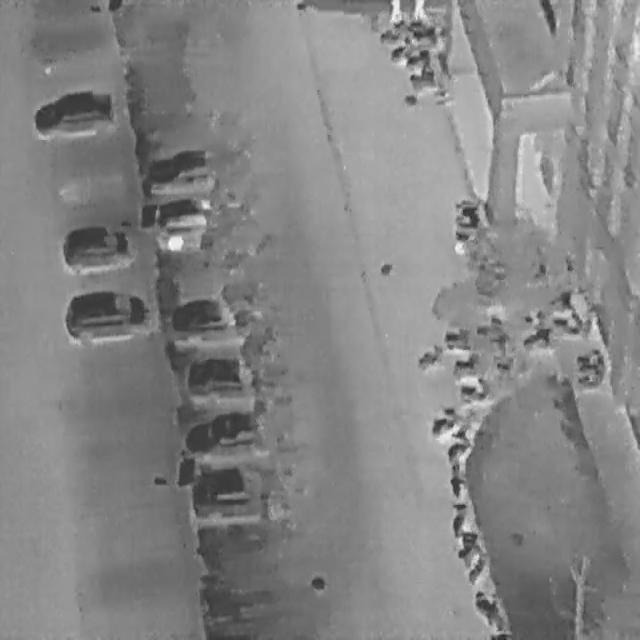Bicycle: (468, 581, 510, 635), (425, 399, 461, 440), (573, 358, 610, 394), (413, 338, 447, 377), (518, 320, 552, 358), (406, 60, 439, 98), (462, 547, 490, 585), (550, 307, 584, 338), (473, 310, 505, 342), (445, 425, 473, 461), (455, 528, 480, 568), (458, 375, 488, 403), (402, 44, 433, 70), (387, 36, 417, 62), (443, 325, 474, 350), (446, 460, 467, 496), (448, 228, 477, 252), (524, 259, 550, 285), (574, 344, 602, 368), (450, 499, 466, 539), (454, 204, 482, 226), (451, 354, 479, 376), (375, 24, 399, 46), (557, 286, 575, 312), (410, 27, 438, 42)
Car: (187, 455, 287, 523), (180, 399, 278, 460), (61, 282, 150, 348), (152, 191, 243, 254), (29, 82, 123, 142), (56, 214, 143, 276), (167, 288, 258, 340), (142, 144, 228, 196), (184, 352, 273, 396)
Person: (387, 0, 403, 22), (411, 0, 427, 22)
